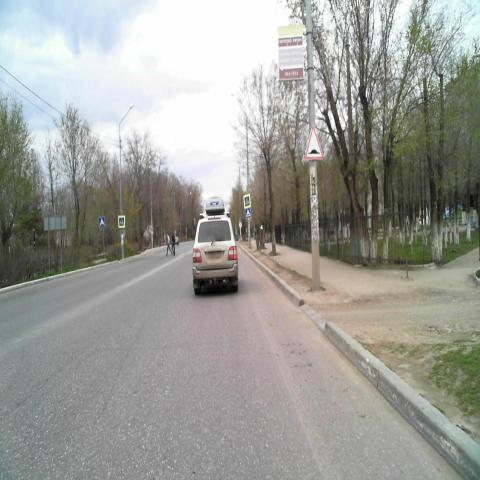1_17: (304, 124, 324, 161)
